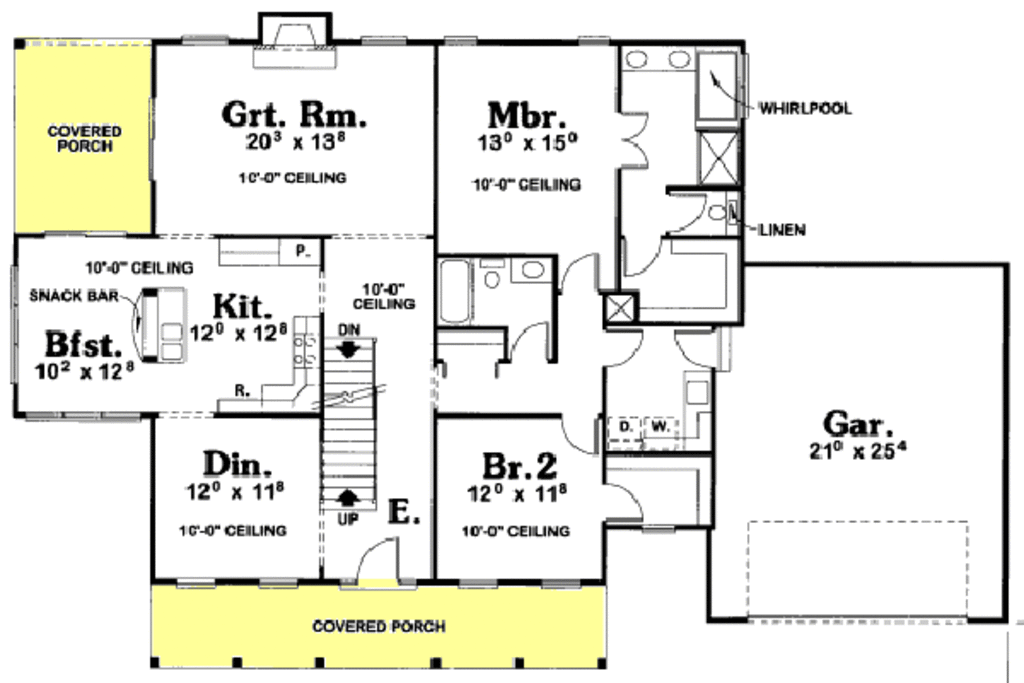door: (611, 107, 653, 173), (356, 535, 398, 587), (507, 320, 553, 366), (559, 253, 606, 298), (674, 327, 720, 371), (600, 482, 645, 526), (620, 236, 664, 279), (666, 190, 707, 236), (560, 413, 600, 457), (604, 325, 643, 366)
kitchen_bar: (129, 280, 192, 366)
large_sink: (707, 188, 742, 230), (481, 257, 509, 291)
small_sink: (621, 43, 698, 77), (508, 259, 556, 288)
stairs: (321, 319, 378, 528)
tub: (692, 43, 745, 127), (435, 255, 477, 328)
window: (7, 261, 21, 385), (23, 410, 144, 424), (356, 28, 408, 50), (175, 32, 233, 51), (538, 577, 583, 592), (576, 32, 610, 50), (440, 33, 478, 49), (256, 577, 299, 591), (174, 578, 219, 591), (456, 577, 498, 588)
